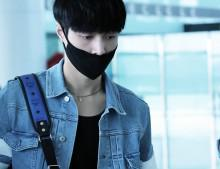WRONG: (74, 30, 119, 75)
